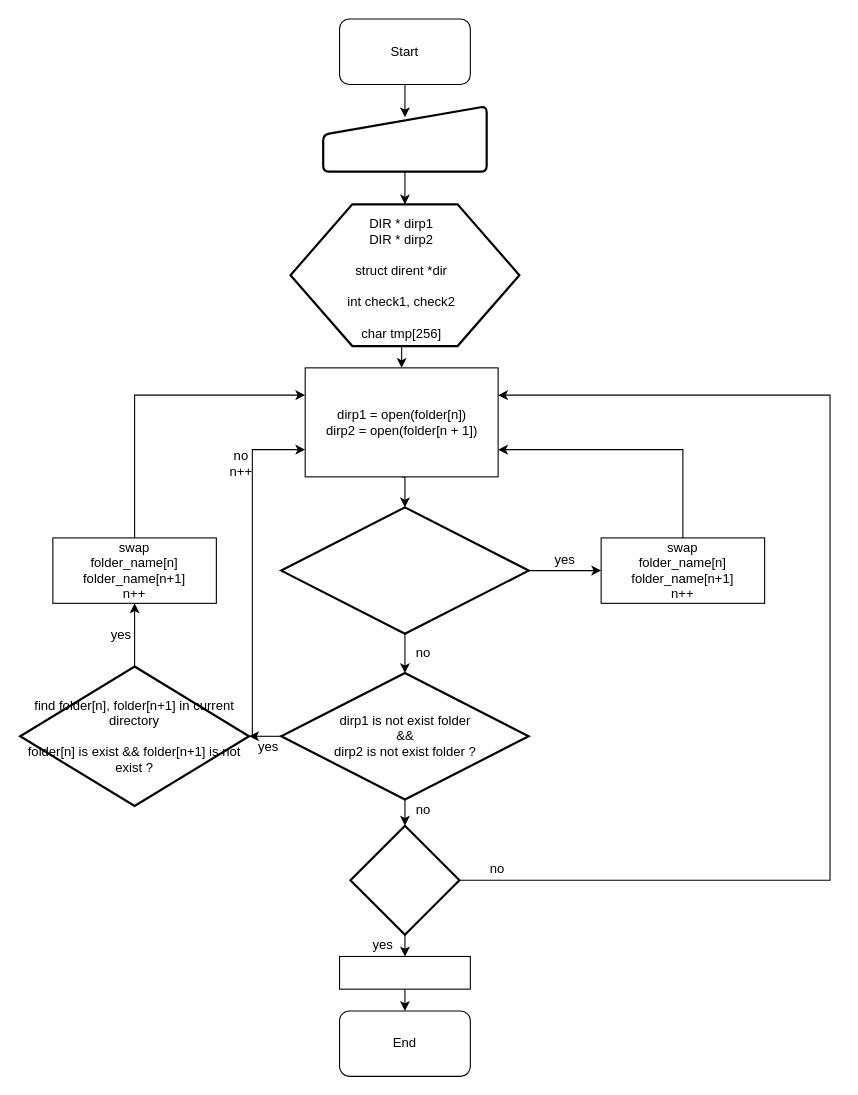
This 858x1095 diagram has some shape labels left out. Here are the shapes that lost their labels. From the top down, the centre of each, then its label:
At pixel 404 138: "char ** folder_name int folder_cnt".
At pixel 404 570: "dirp1 is exist folder && dirp2 is not exist folder ?".
At pixel 404 879: "sort end ?".
At pixel 404 972: "closedir()".
